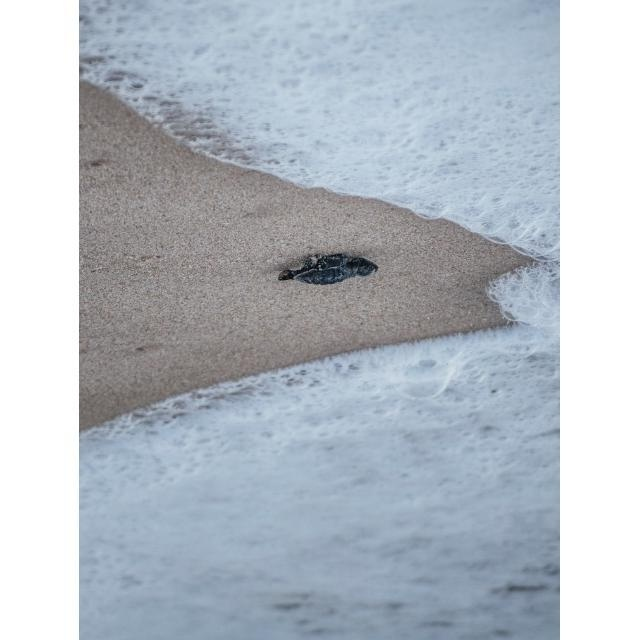turtle: (273, 251, 379, 287)
